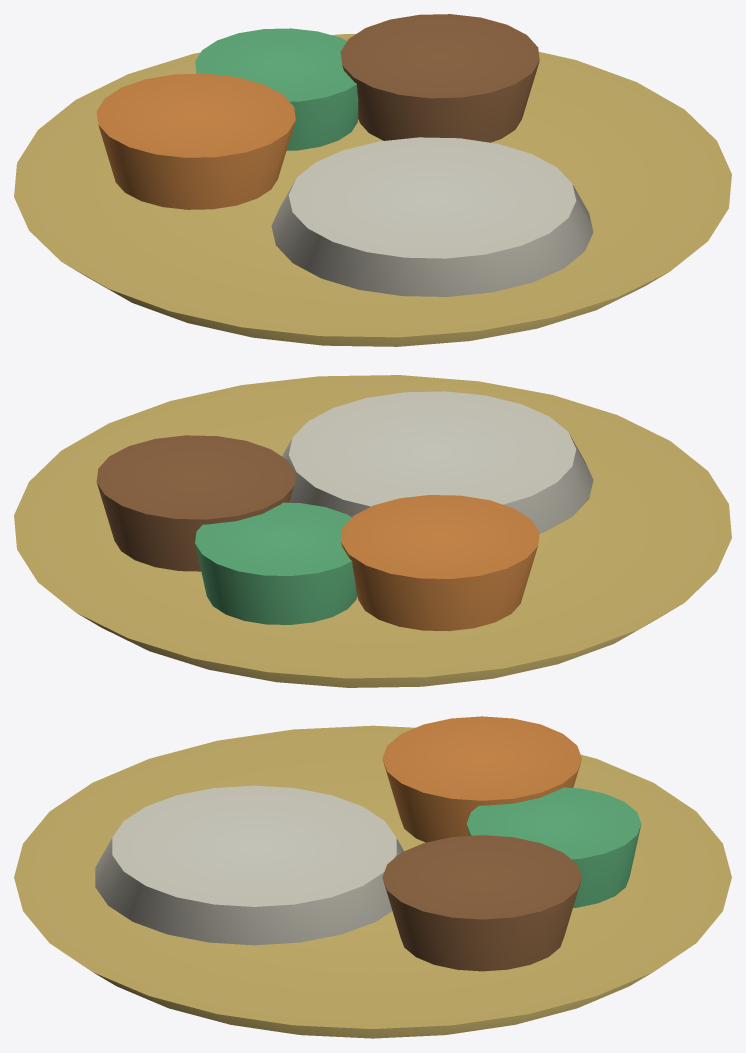
Rendered from thali_platter.glb.
3 views of the same model, one above another, from view 1: azimuth 30°, elevation 25°; view 2: azimuth 150°, elevation 25°; view 3: azimuth 270°, elevation 25° (orthographic).
Parts seen in each view (by area): view 1: DishModel; view 2: DishModel; view 3: DishModel.
Part boxes in pixels (<box>): DishModel: <box>14,14,731,346</box>; DishModel: <box>14,375,731,687</box>; DishModel: <box>14,716,731,1038</box>.
Size of the model in its own units: 2.3 by 0.29 by 2.3.
